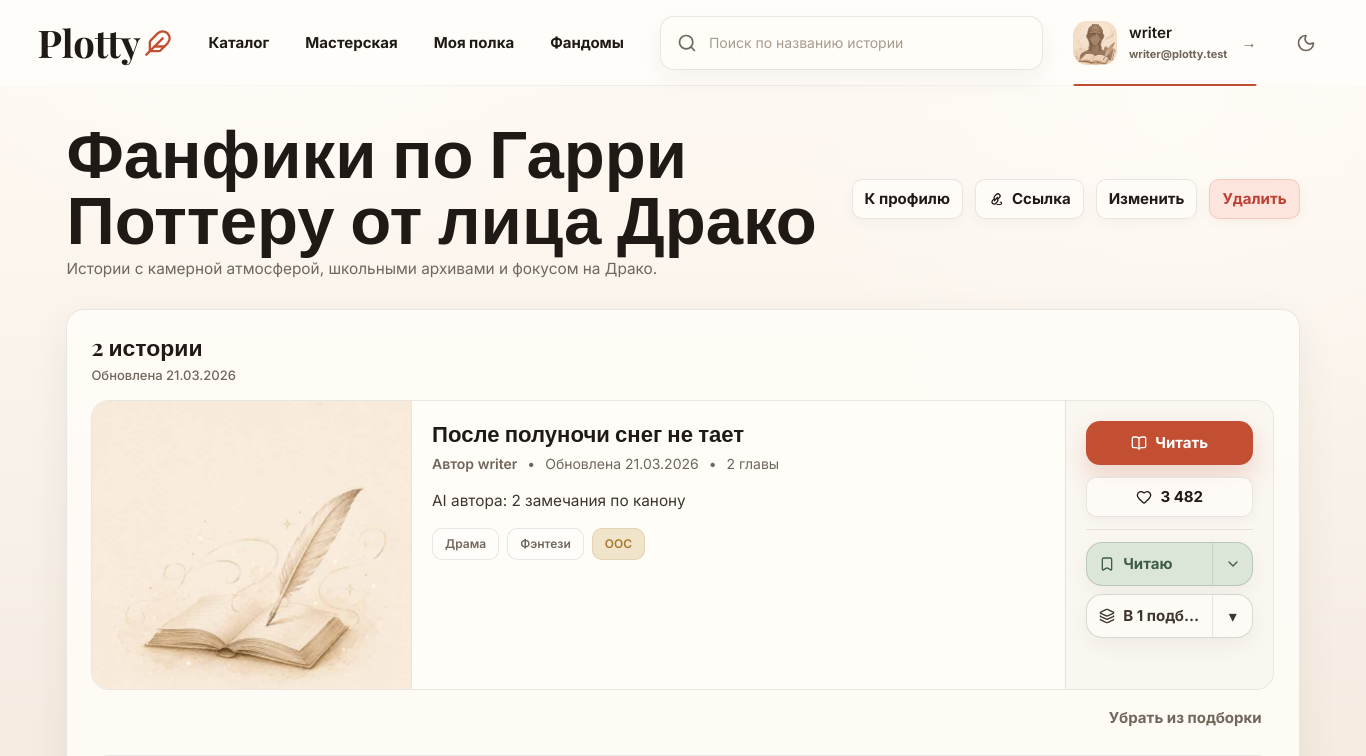
Test: PublicCollectionScreen › marks the edit panel as a CSS presence surface
This screenshot has width=1366, height=756.
Step 1. Click the button "Изменить" → [1147, 200], box [1096,180,1198,220]
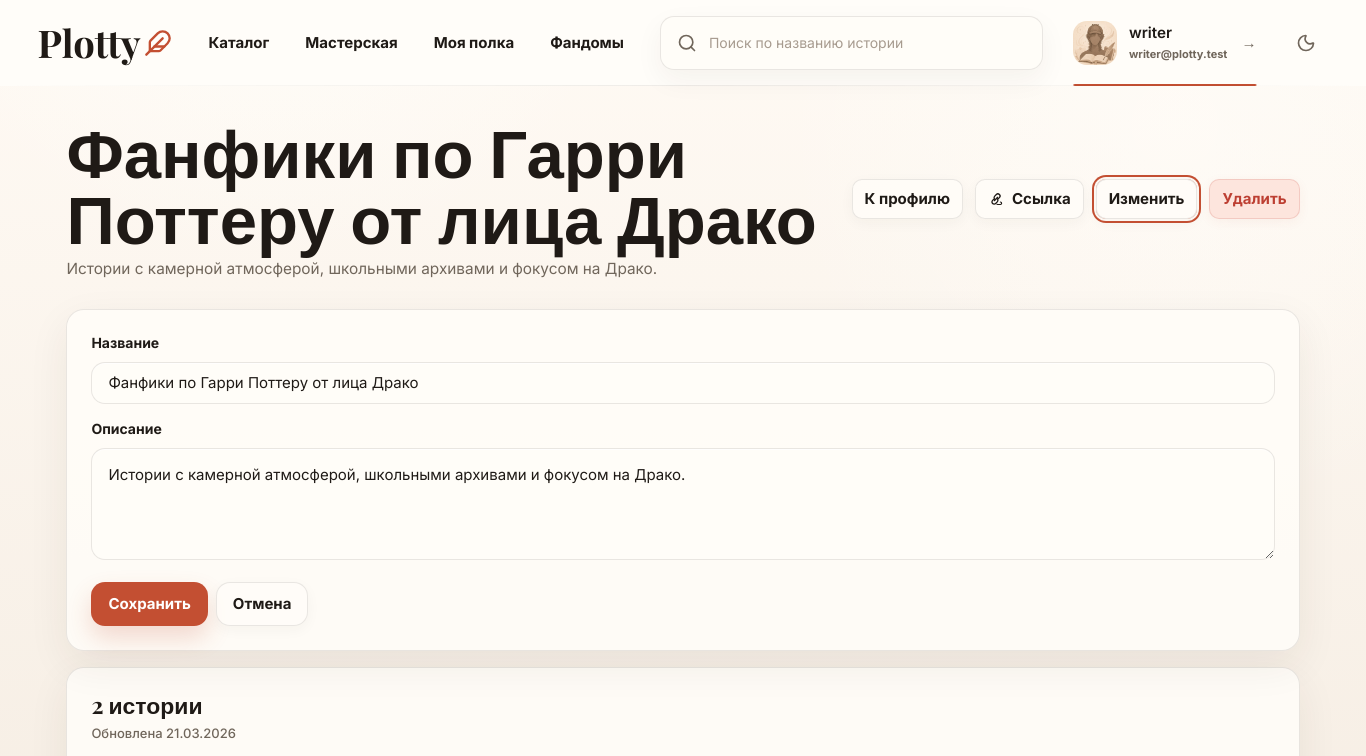
expect the element showing "Название Описание Сохранить Отмена" is shown: met, box [66,309,1300,651]
